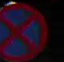No Stopping: (0, 2, 48, 61)
